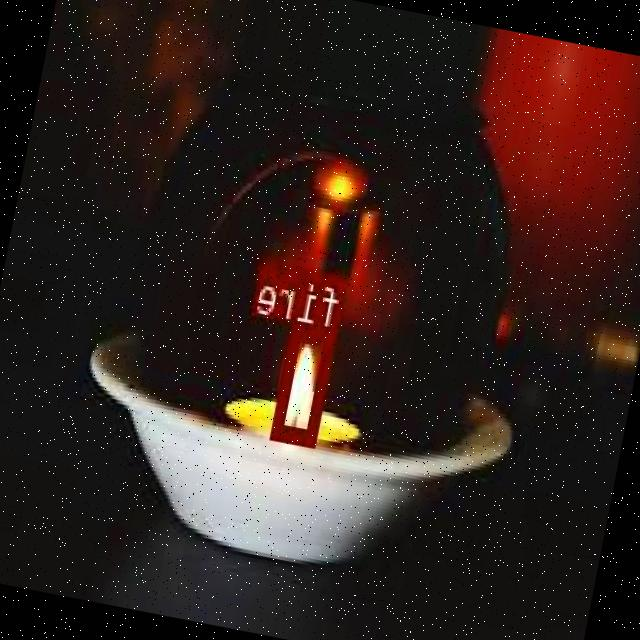fire: (273, 324, 340, 446)
